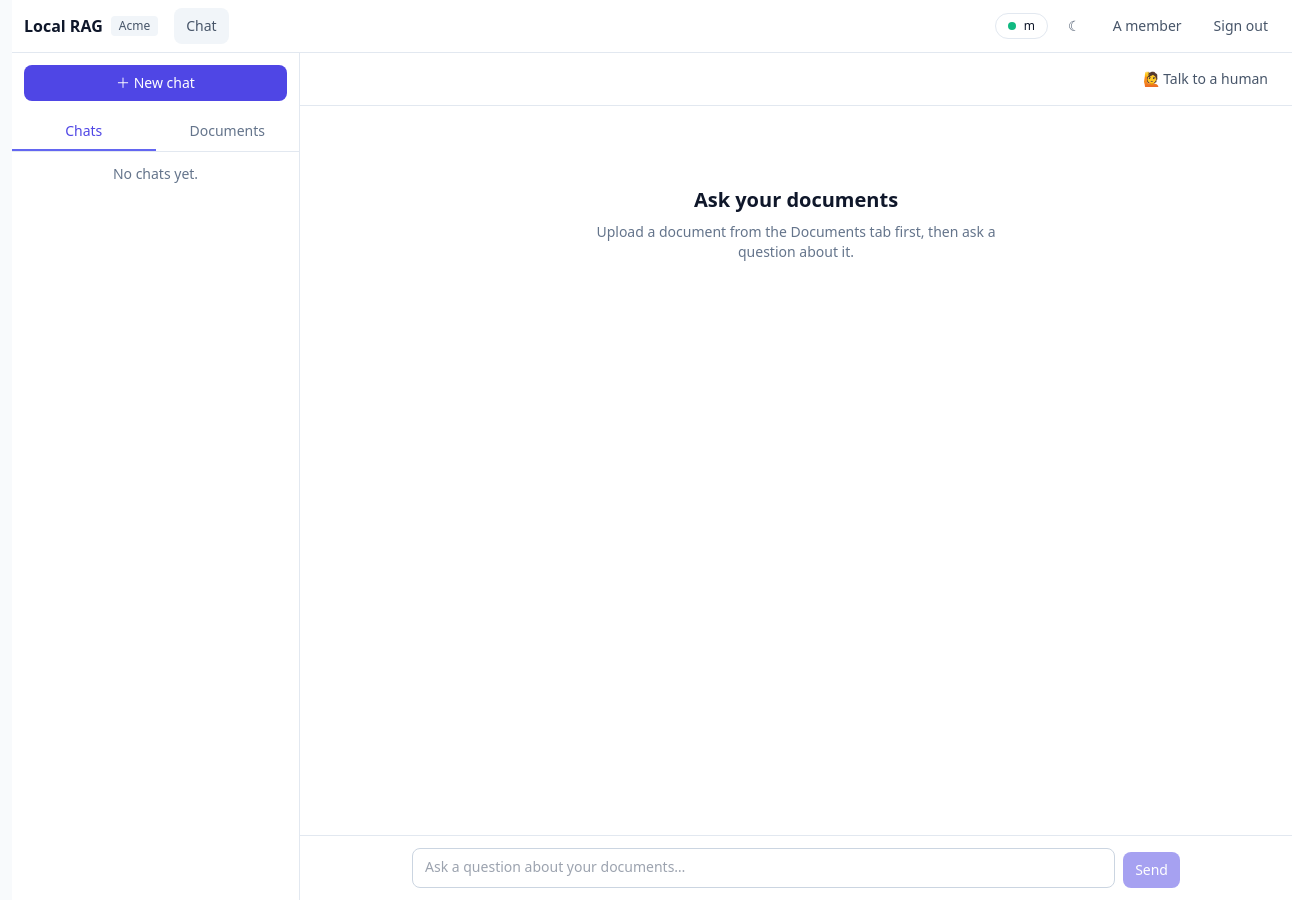
it: QA: expired or revoked token › returns to the sign-in screen when the API starts answering 401 after login
The width and height of the screenshot is (1292, 900).
Check: the text "Local RAG" is shown, box [24,14,103,38]
In the text box named "Message": (764, 868) [412,848,1115,888], type "hello"
Then press Enter
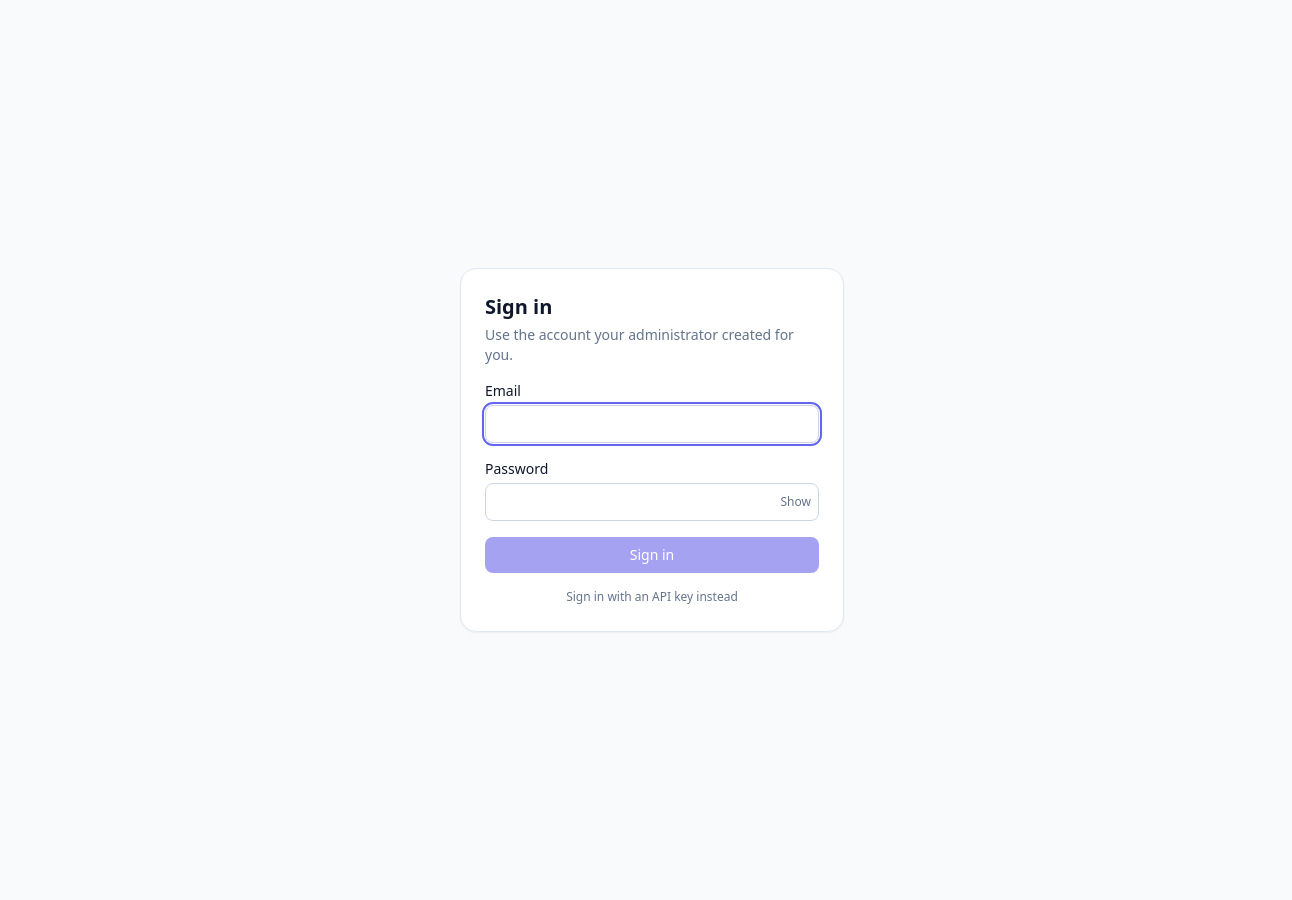
Check: the heading "Sign in" is shown, box [485,293,552,320]
